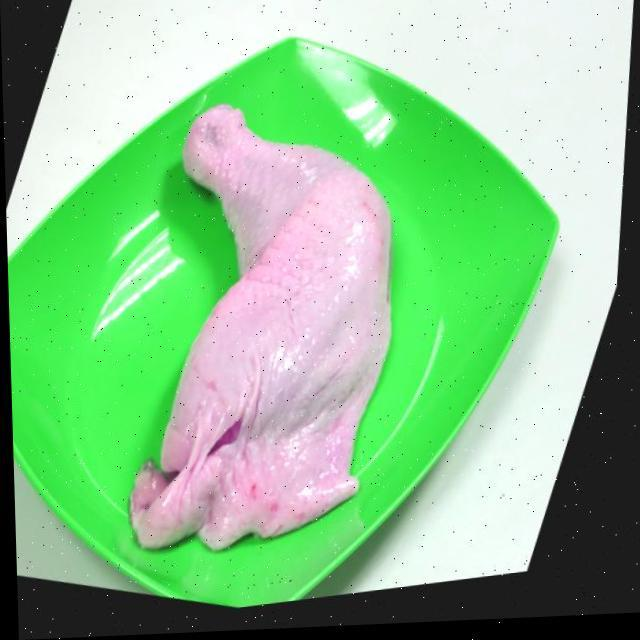quater: (149, 103, 392, 517)
